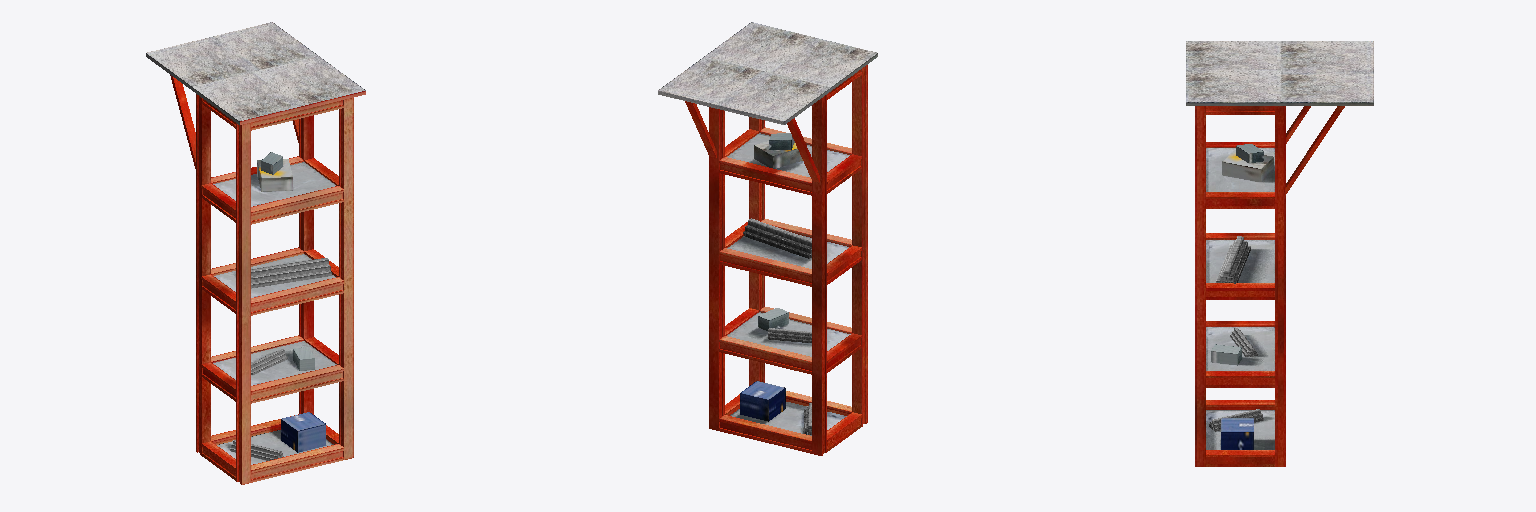
The picture shows the model from 3 angles: view 1: azimuth 30°, elevation 25°; view 2: azimuth 150°, elevation 25°; view 3: azimuth 270°, elevation 25°; orthographic projection.
Bounding box in the file's own units: 21.43 × 59.58 × 27.46.
1 materials, 1 textured.